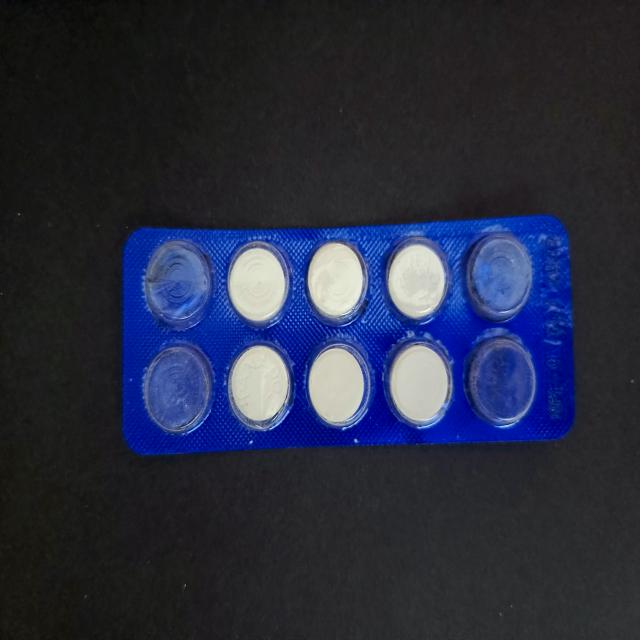defect: (462, 328, 541, 429), (140, 340, 217, 438), (462, 227, 536, 324), (143, 238, 215, 332)
